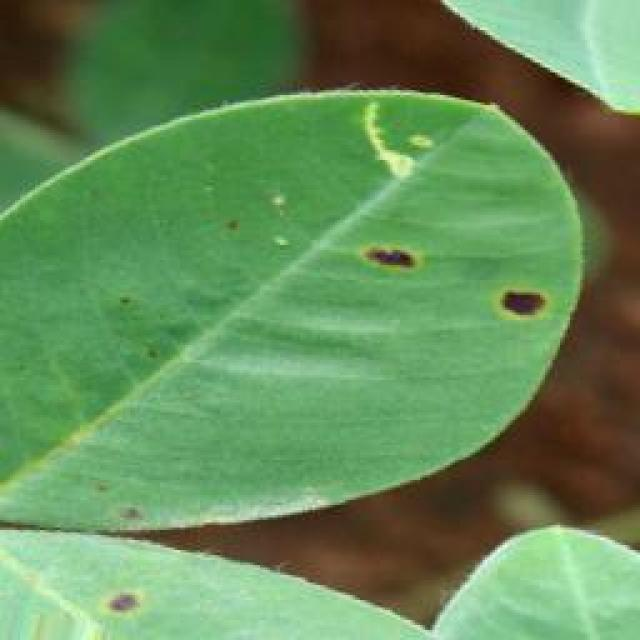Sigatoka: (96, 273, 172, 382), (448, 260, 552, 339), (352, 223, 448, 301), (92, 562, 165, 634), (101, 470, 178, 534), (212, 193, 254, 251)
